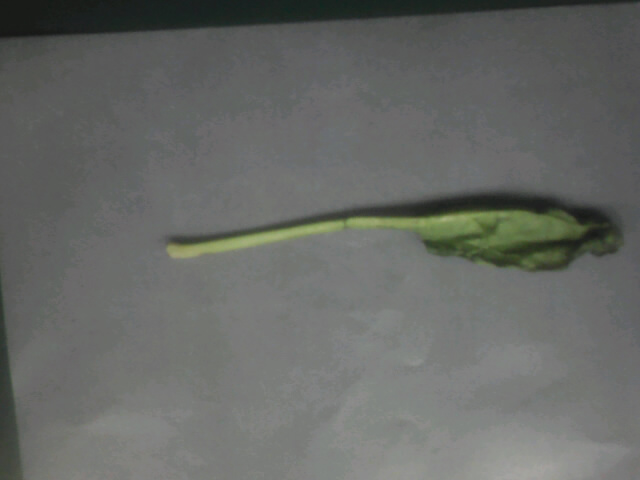yellow: (243, 163, 627, 286)
